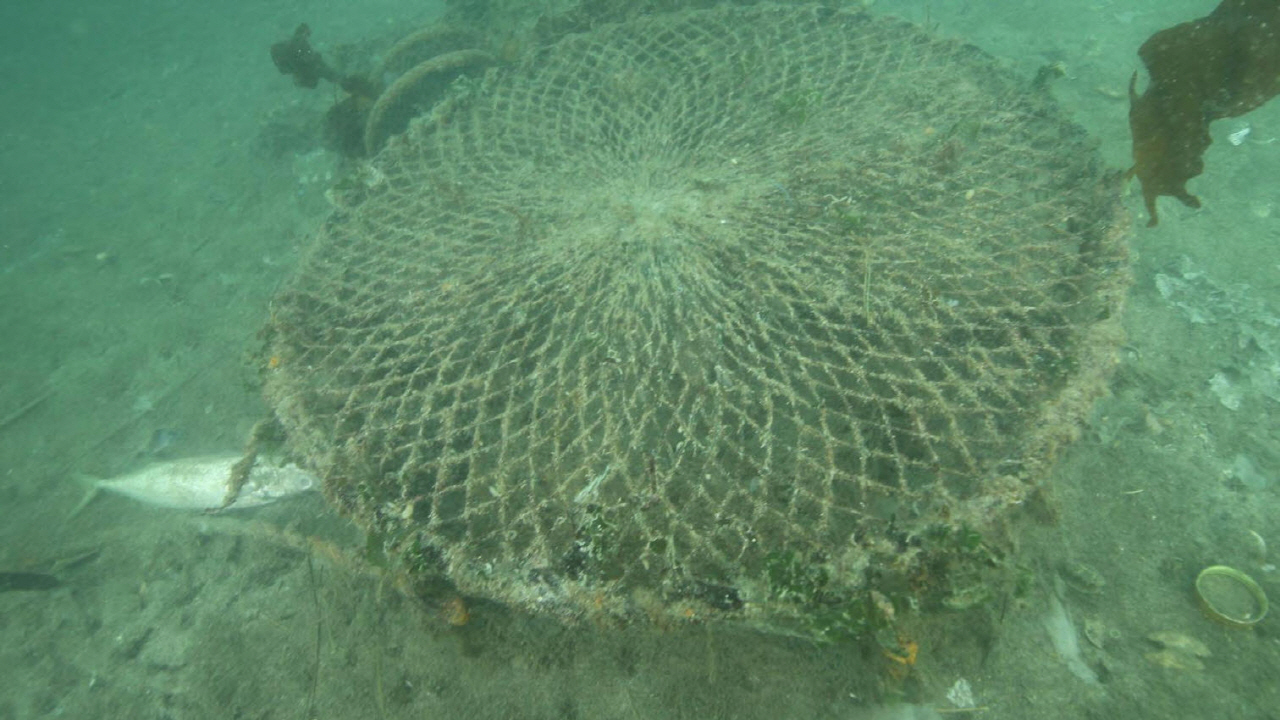circular fish trap: (263, 1, 1132, 621)
